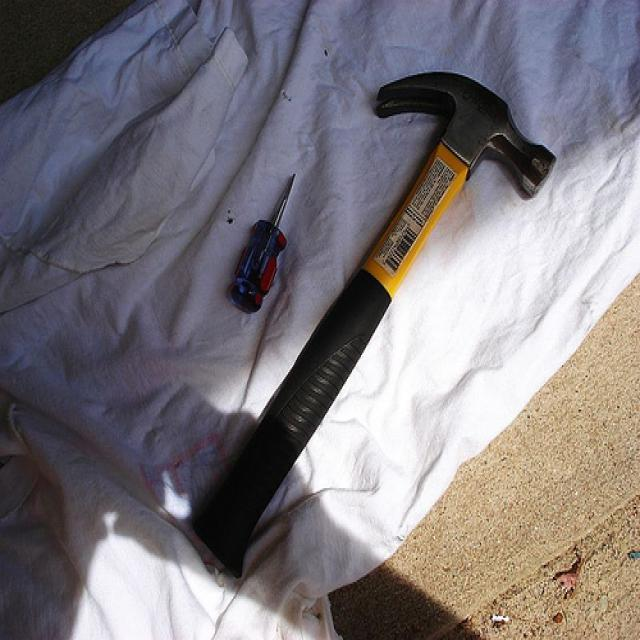hammer: (180, 60, 568, 588)
screwdriver: (217, 158, 312, 324)
